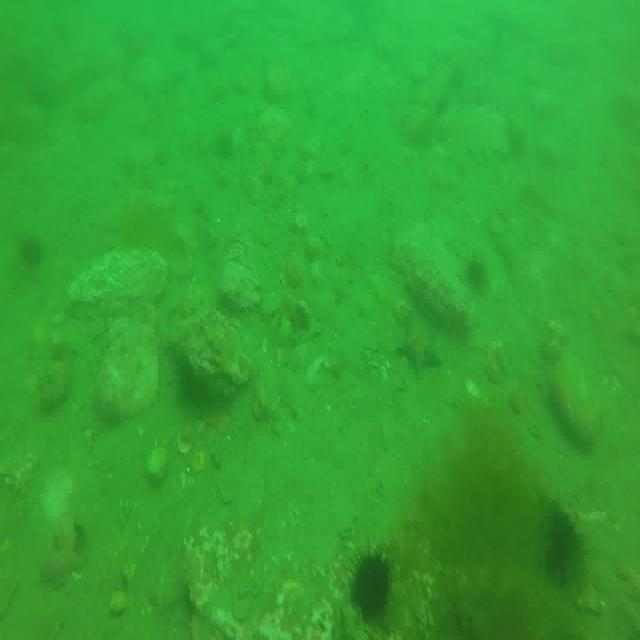echinus: (544, 497, 580, 579), (353, 552, 389, 617), (19, 237, 45, 266), (466, 260, 487, 294)
starfish: (395, 314, 444, 378), (287, 294, 315, 335)
